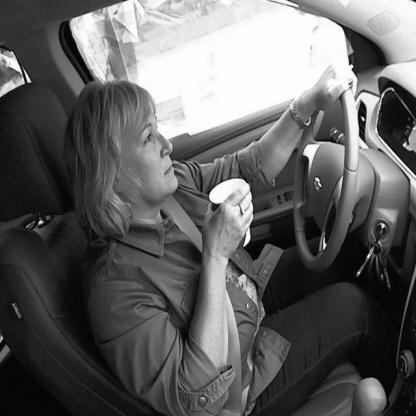seatbelt: (72, 80, 246, 323)
